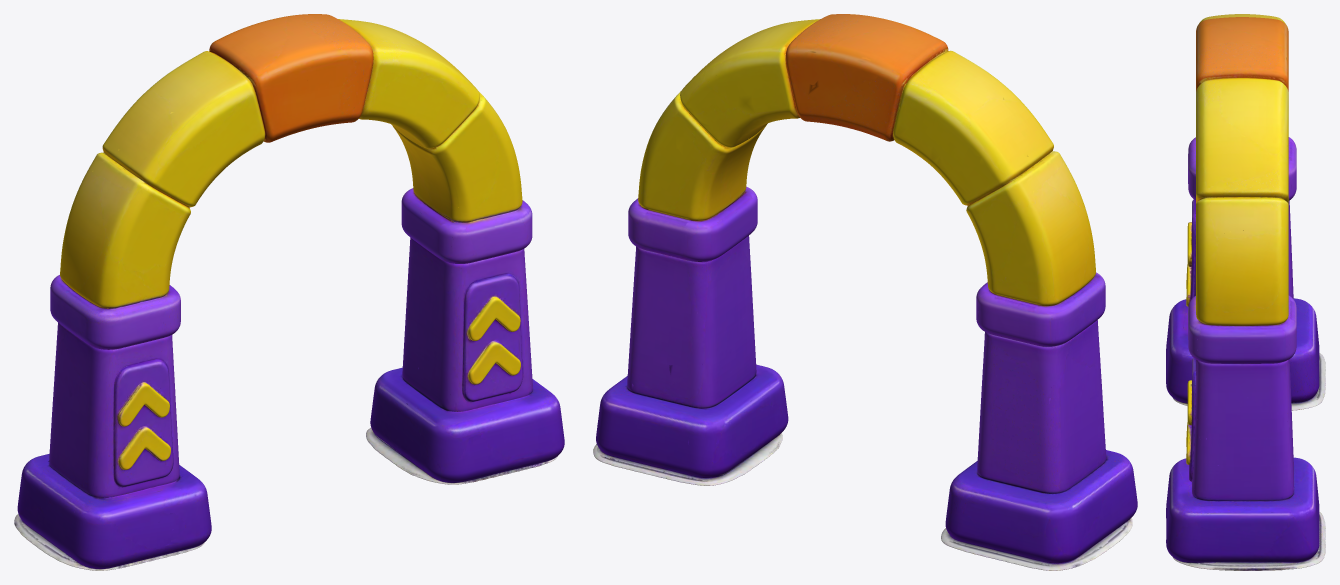
Rendered from model-05-checkpoint.glb.
3 renders of one model, left to right at view 1: azimuth 30°, elevation 25°; view 2: azimuth 150°, elevation 25°; view 3: azimuth 270°, elevation 25°, orthographic. The views are drawn at different scales.
Parts seen in each view (by area): view 1: node_0; view 2: node_0; view 3: node_0.
Boxes of the visible parts, bbox=[...] form: node_0: bbox=[14, 14, 564, 570]; node_0: bbox=[593, 14, 1137, 570]; node_0: bbox=[1166, 14, 1325, 570].
Bounding box in the file's own units: 0.9016 × 0.7898 × 0.2694.
1 material, 1 textured.
